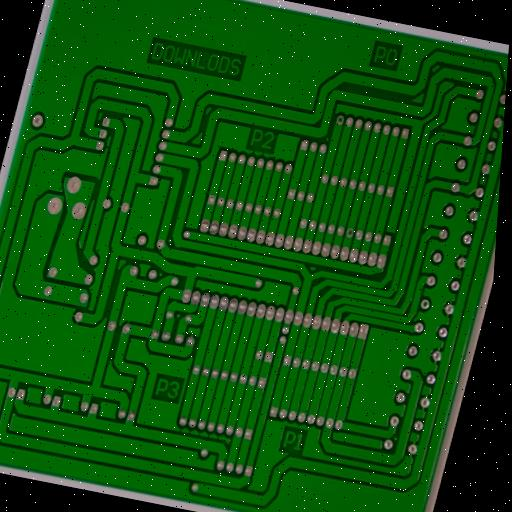missing_hole: (343, 226, 356, 242), (418, 298, 431, 312), (333, 114, 345, 128)
